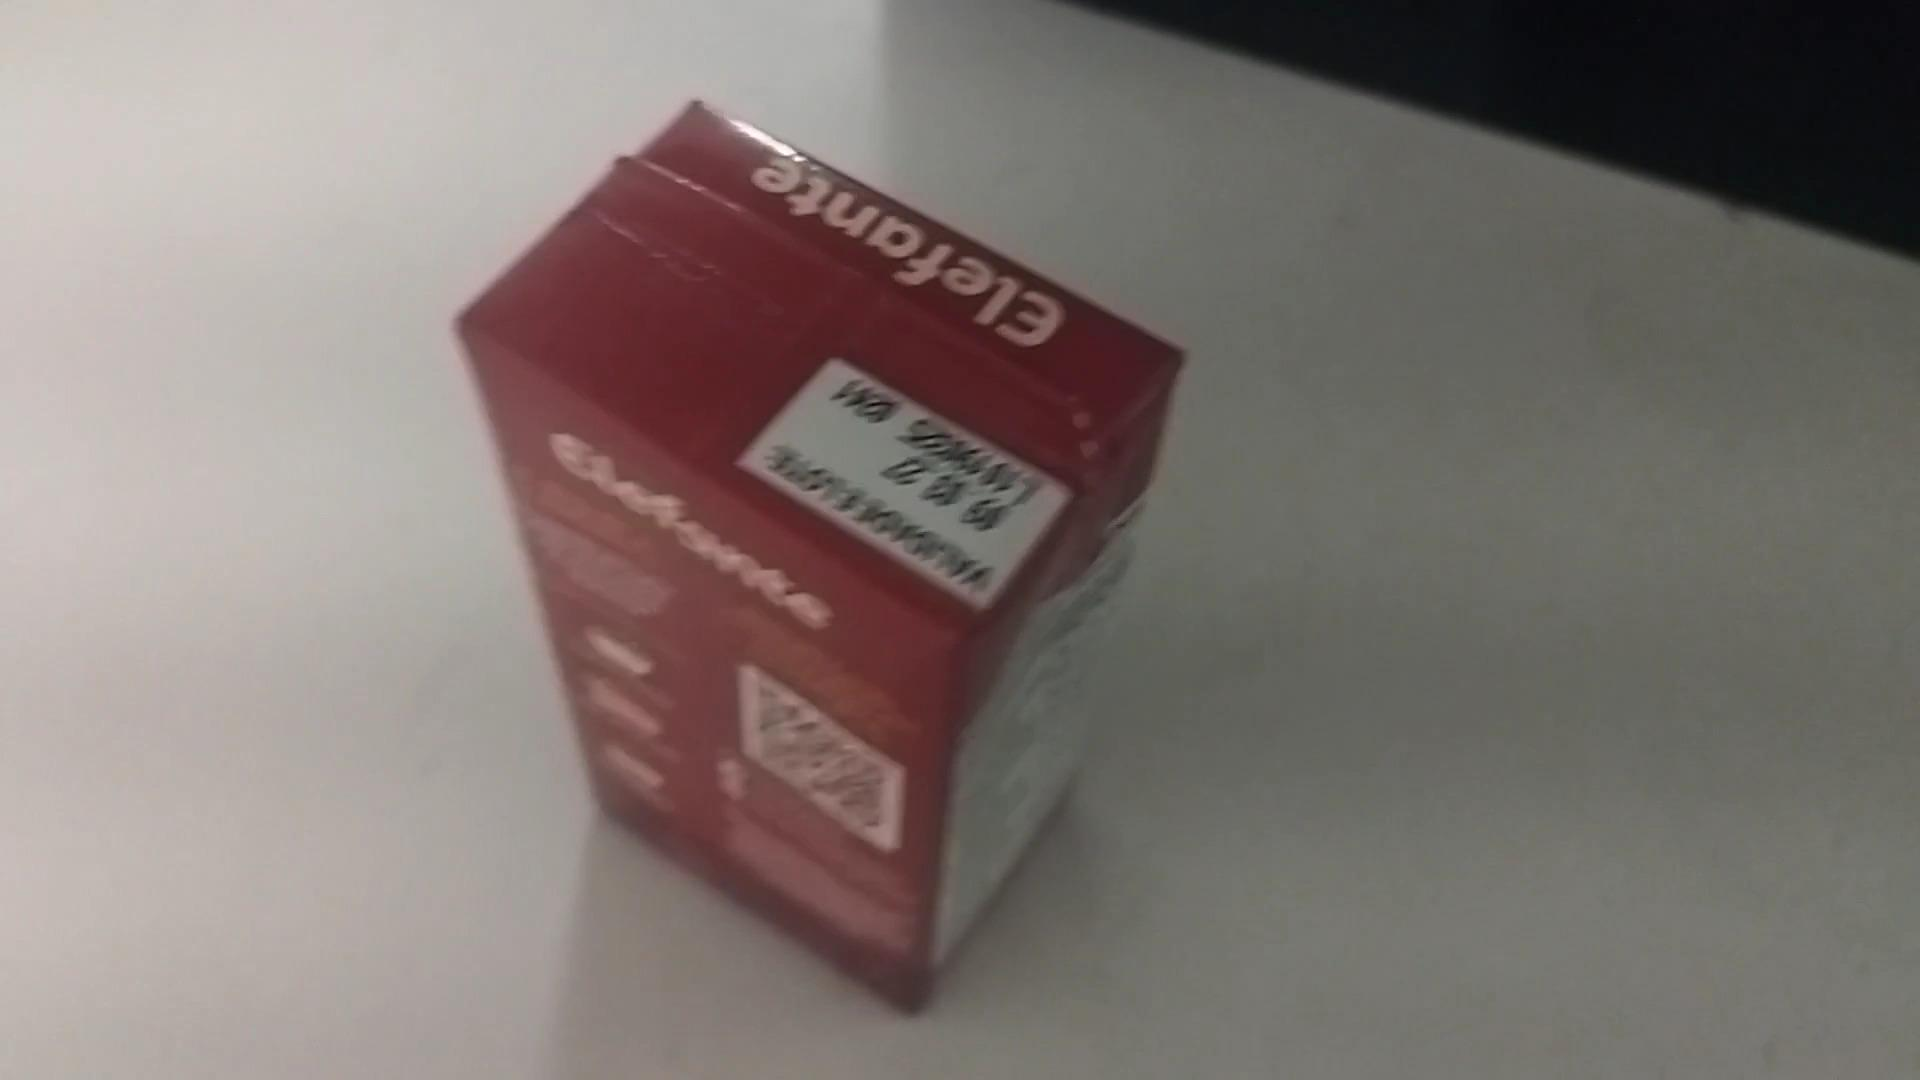tomate: (439, 86, 1188, 1005)
